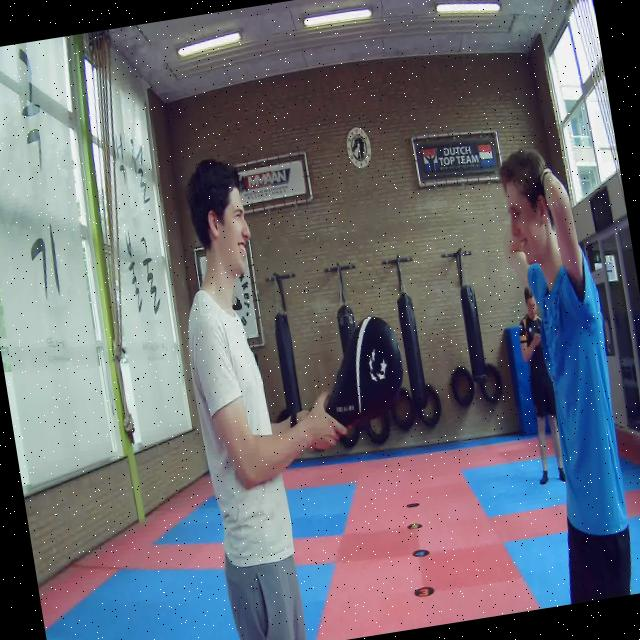paddle: (324, 315, 404, 427)
